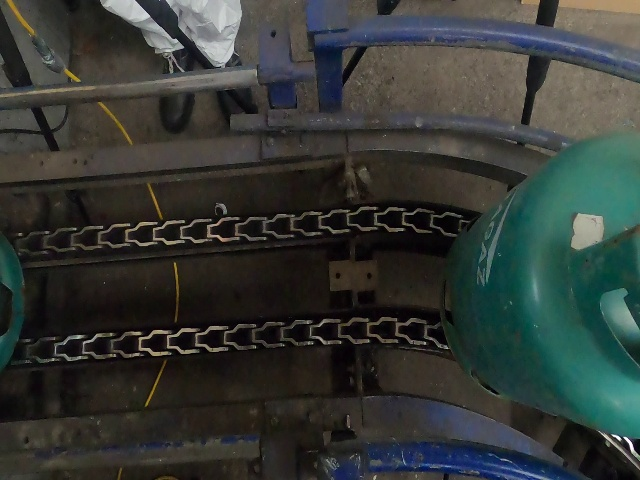gas_bottle: (0, 6, 636, 475)
